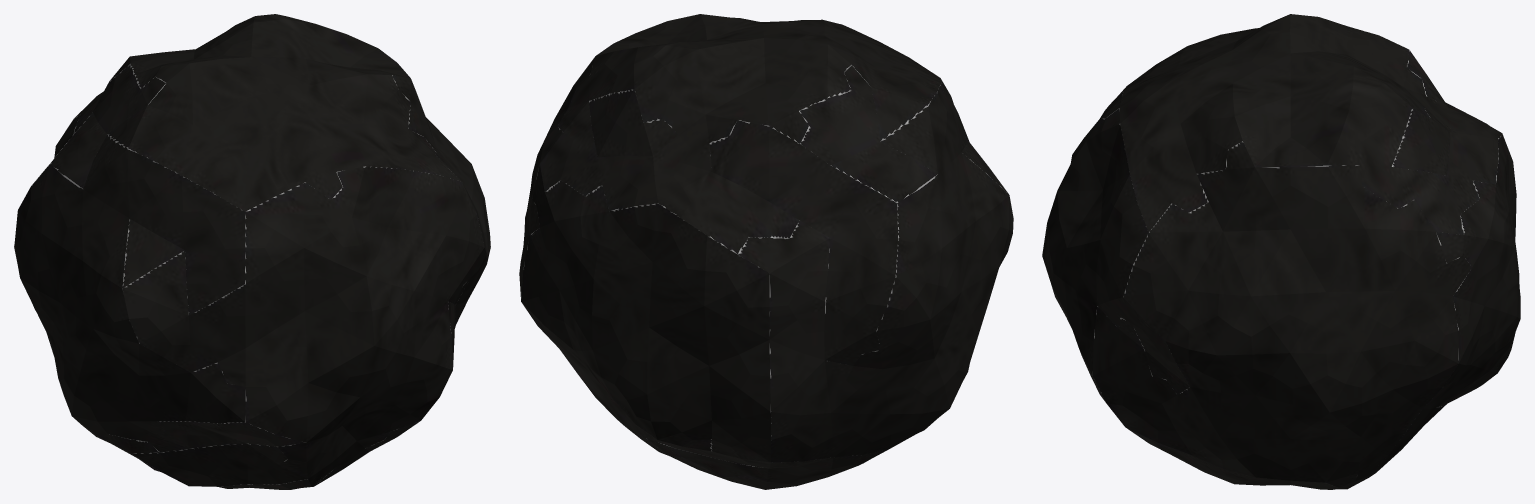
File: asteroid2.dae
3 views of the same model, side by side, from view 1: azimuth 30°, elevation 25°; view 2: azimuth 150°, elevation 25°; view 3: azimuth 270°, elevation 25° (orthographic). The views are drawn at different scales.
Parts seen in each view (by area): view 1: asteroid2; view 2: asteroid2; view 3: asteroid2.
Part boxes in pixels (x1,y1,x2,y2): asteroid2: (14,14,490,489); asteroid2: (519,14,1013,489); asteroid2: (1042,14,1520,489).
Size of the model in its own units: 158 by 156 by 161.
Materials: 1 (1 with a texture image).
